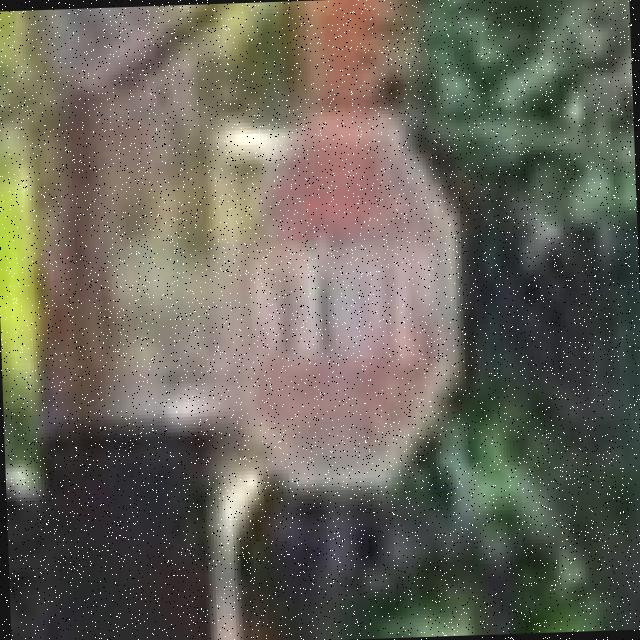Stop: (224, 115, 466, 501)
